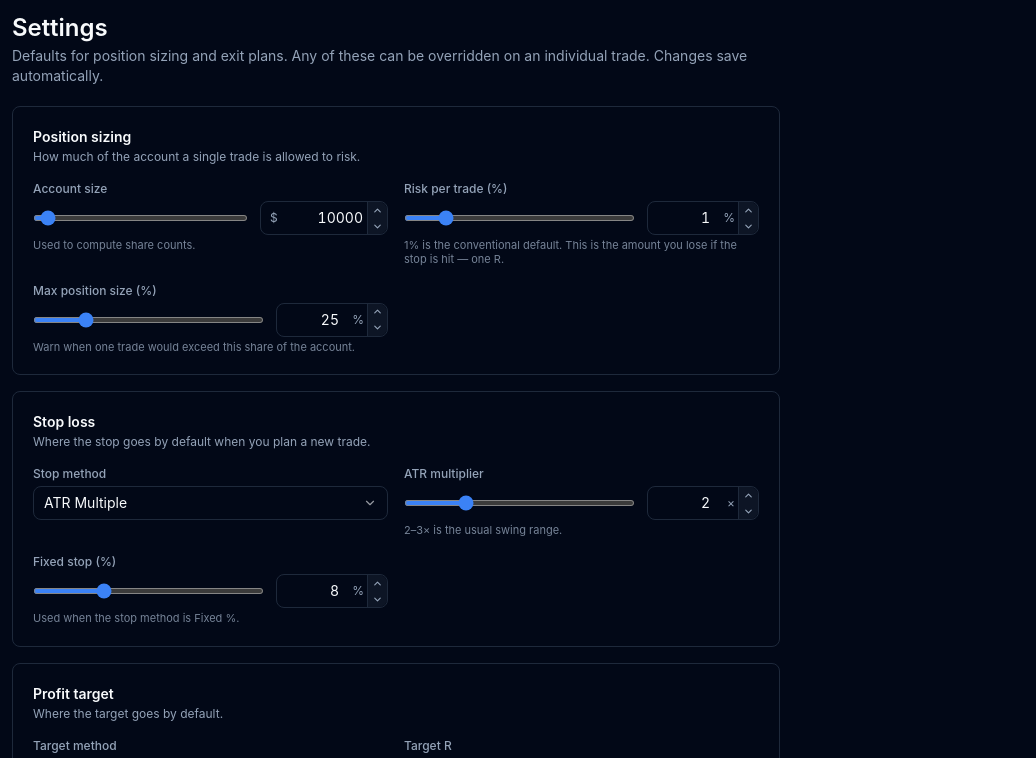
SettingsPage › autosaves an edited setting without a Save button
Replace the text in the field labelled "Account size" with "25000": (324, 218) [260,201,388,235]
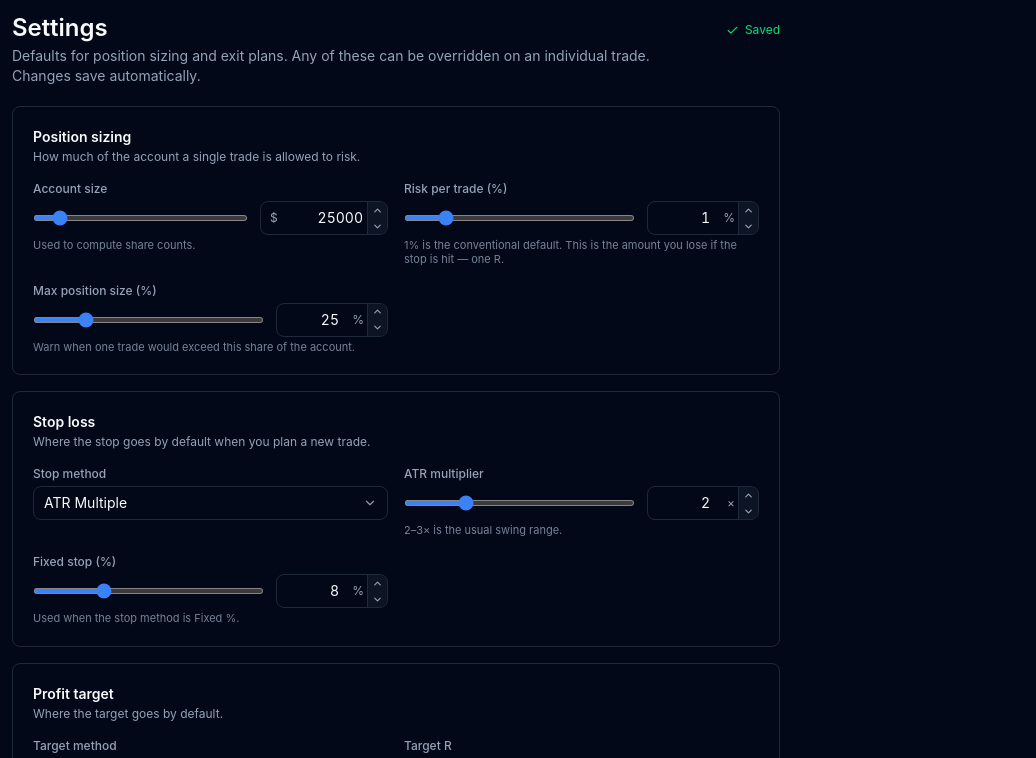
Expected: the text "Saved" is shown, [726,22,780,38]
